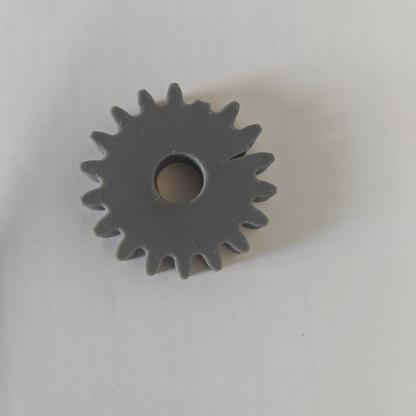defect: (209, 135, 292, 201), (162, 71, 232, 124)
gear: (73, 67, 298, 292)
